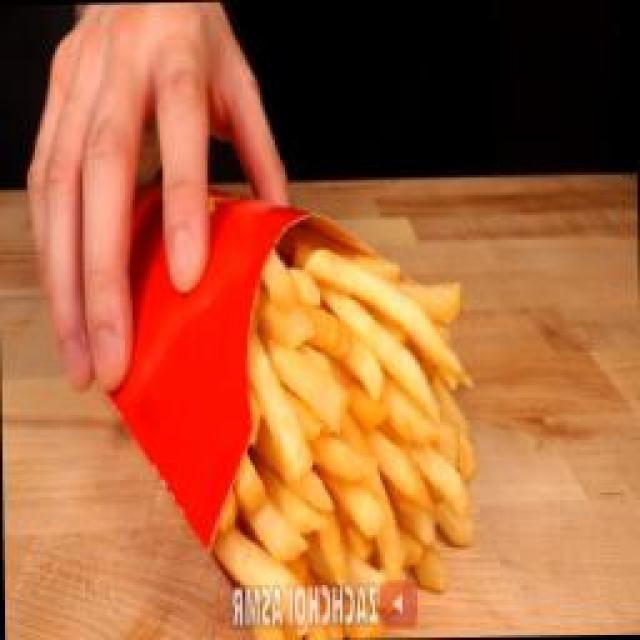french fries: (158, 140, 513, 640)
